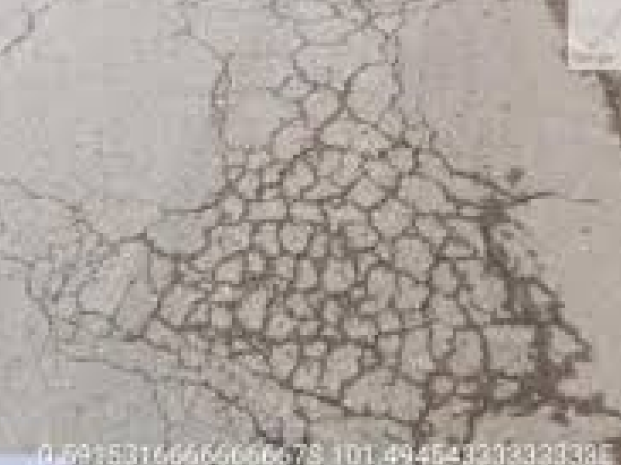Retak Buaya: (166, 3, 621, 442), (1, 168, 184, 416), (1, 1, 41, 61), (35, 1, 66, 34)
